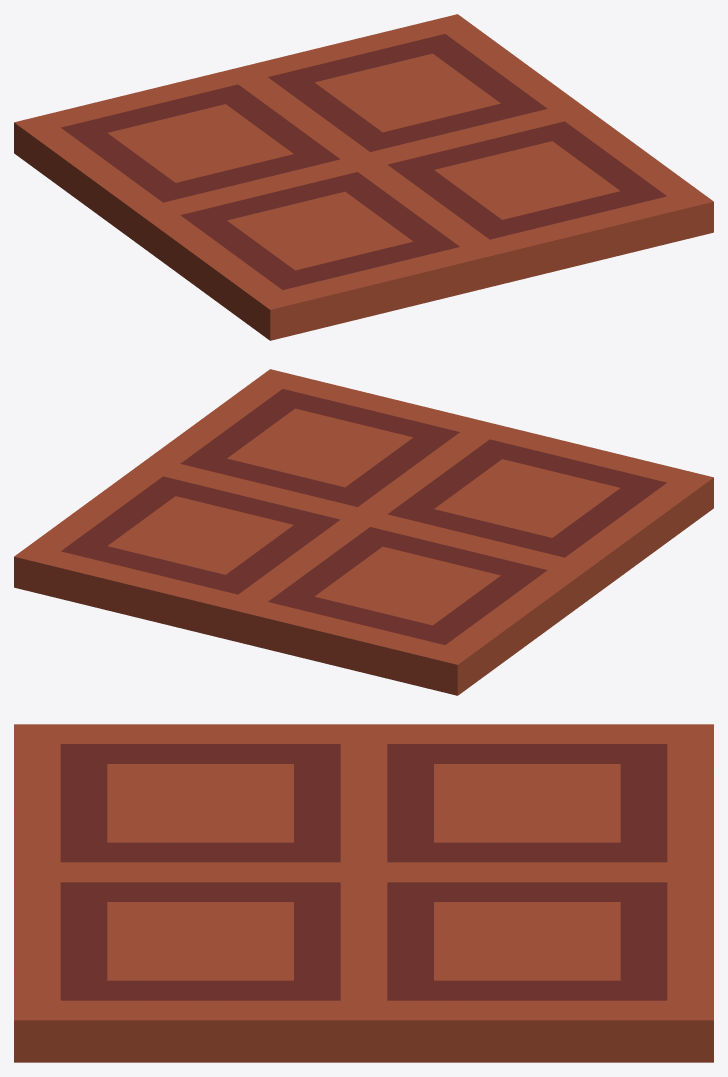
File: dungeon_b_b_ground_c_a.obj
3 renders of one model, top to bottom at view 1: azimuth 30°, elevation 25°; view 2: azimuth 150°, elevation 25°; view 3: azimuth 270°, elevation 25°, orthographic. The views are drawn at different scales.
Size of the model in its own units: 1.5 by 0.1 by 1.5.
1 material, 1 textured.
